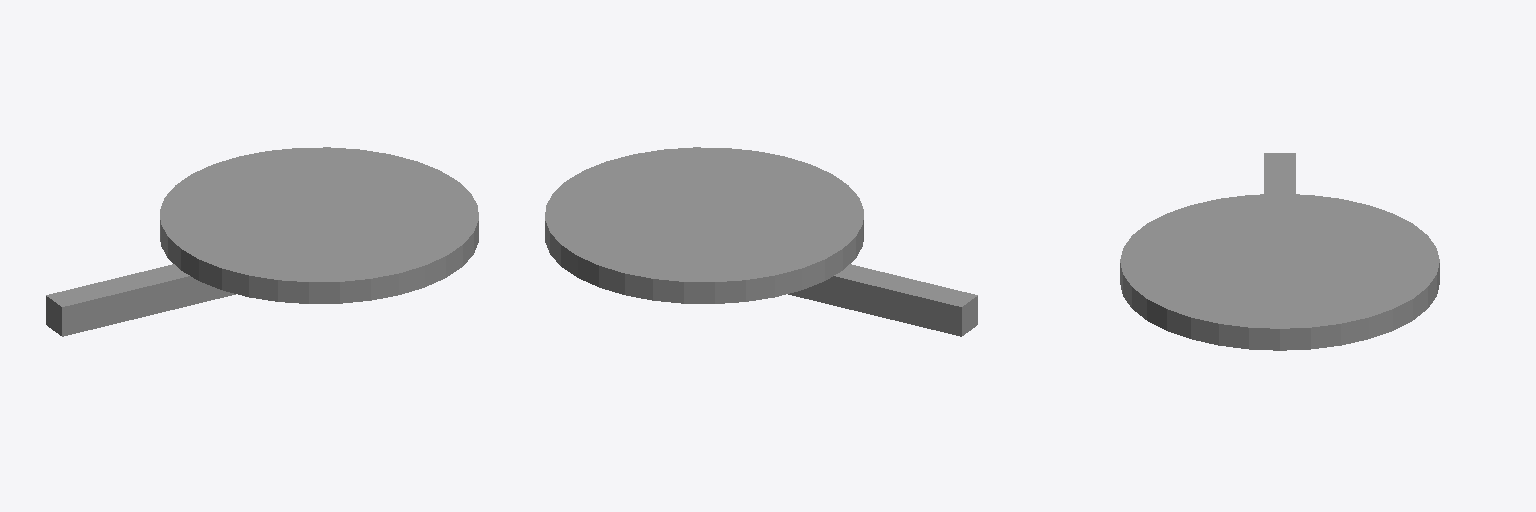
Rendered from target.obj.
3 renders of one model, left to right at view 1: azimuth 30°, elevation 25°; view 2: azimuth 150°, elevation 25°; view 3: azimuth 270°, elevation 25°, orthographic.
Parts seen in each view (by area): view 1: Cylinder; view 2: Cylinder; view 3: Cylinder.
Part boxes in pixels (x1,y1,x2,y2): Cylinder: (46, 147, 478, 336); Cylinder: (545, 147, 977, 336); Cylinder: (1120, 153, 1439, 350).
Size of the model in its own units: 2.92 by 0.3537 by 2.